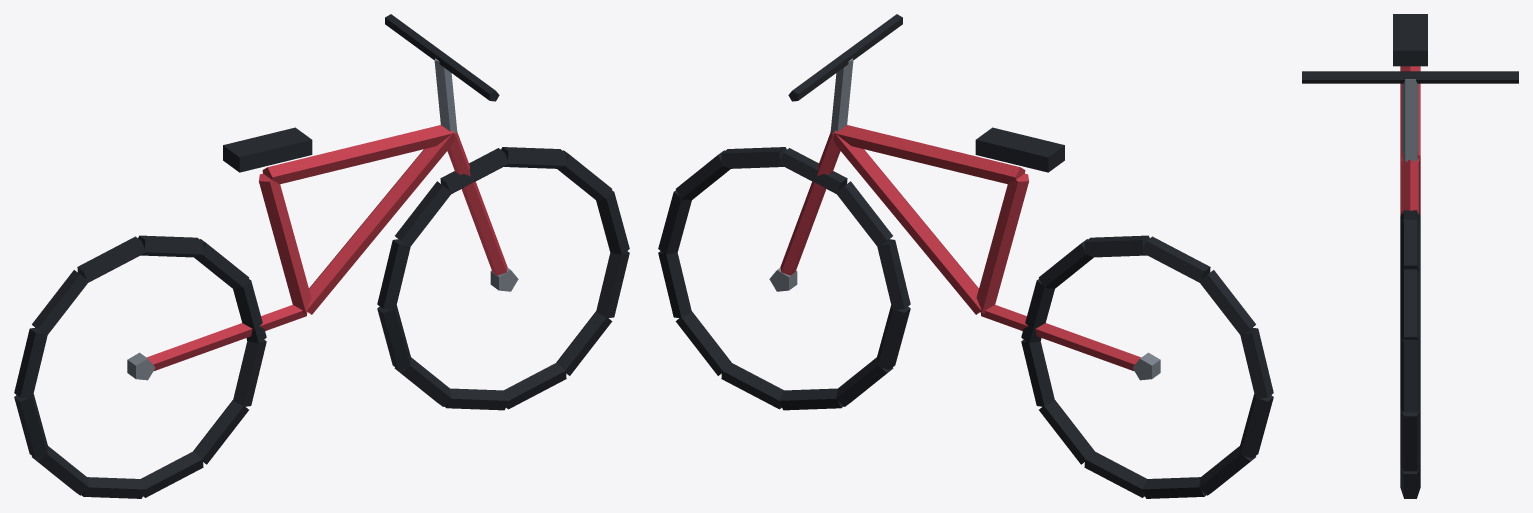
The model's file is bicycle.glb.
The picture shows the model from 3 angles, left to right: view 1: azimuth 30°, elevation 25°; view 2: azimuth 150°, elevation 25°; view 3: azimuth 270°, elevation 25°; orthographic projection. The views are drawn at different scales.
Visible parts, largest first — view 1: bicycle; view 2: bicycle; view 3: bicycle.
Boxes of the visible parts, bbox=[...] form: bicycle: bbox=[14, 14, 629, 498]; bicycle: bbox=[658, 14, 1273, 498]; bicycle: bbox=[1302, 14, 1518, 498].
Size of the model in its own units: 1.68 by 0.9738 by 0.5.
